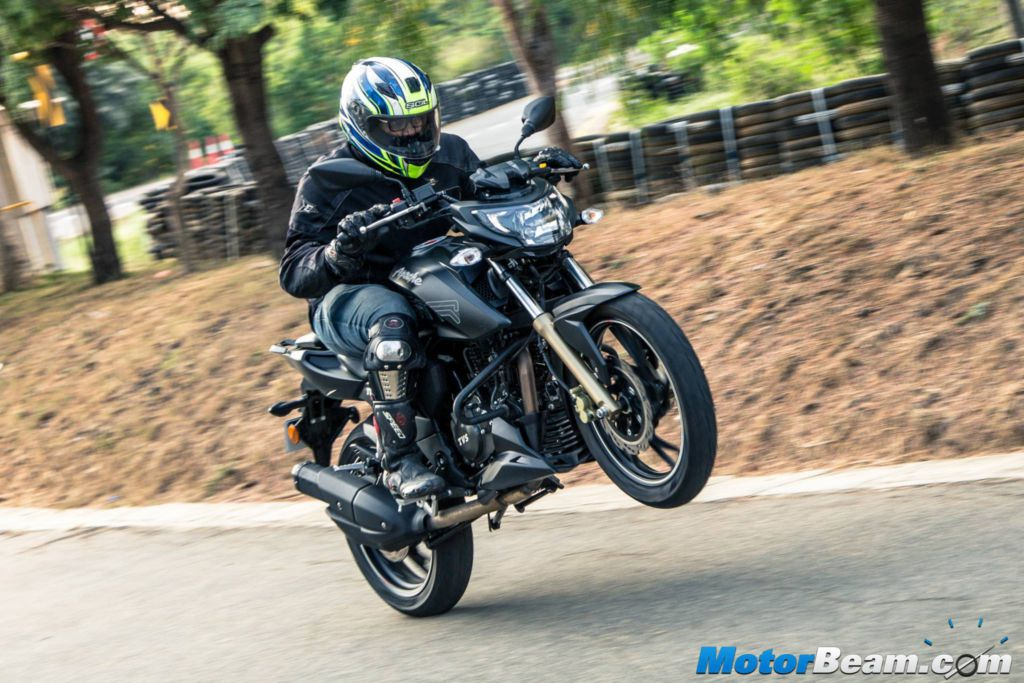helmet: (338, 53, 443, 161)
